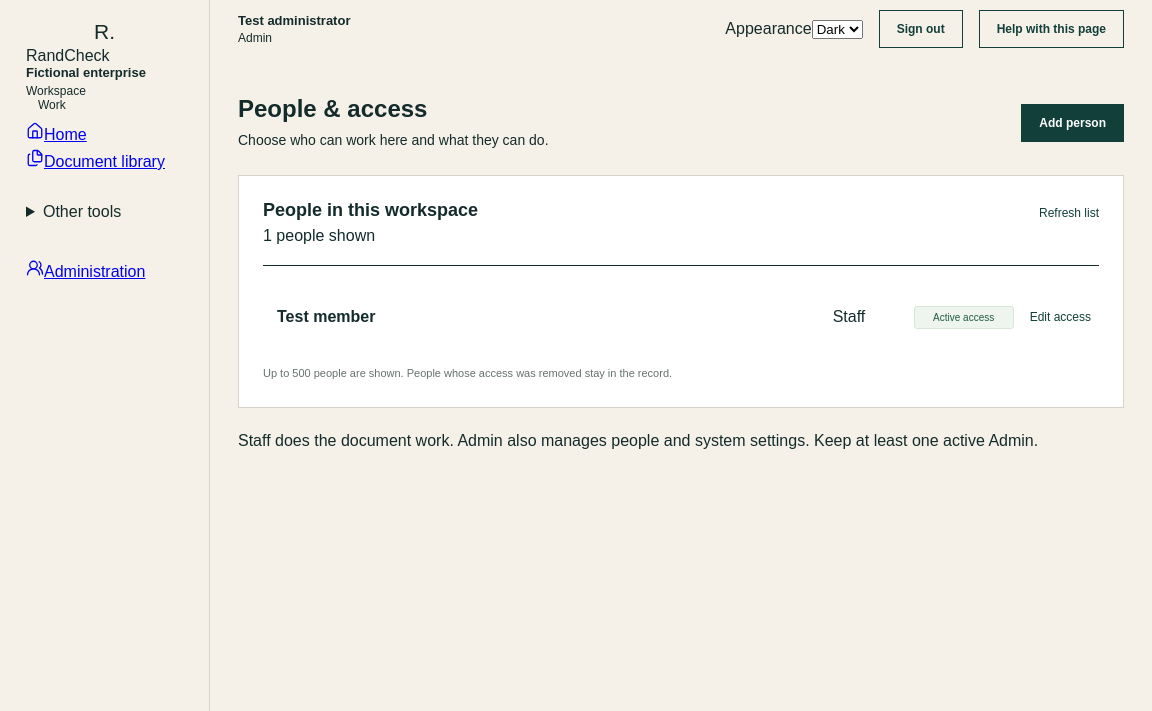
organization access screens › sends the selected version and requires reloading after a stale membership conflict
Click the button with aria-label "Edit Test member" at [1060, 317], box [1030,304,1091,330]
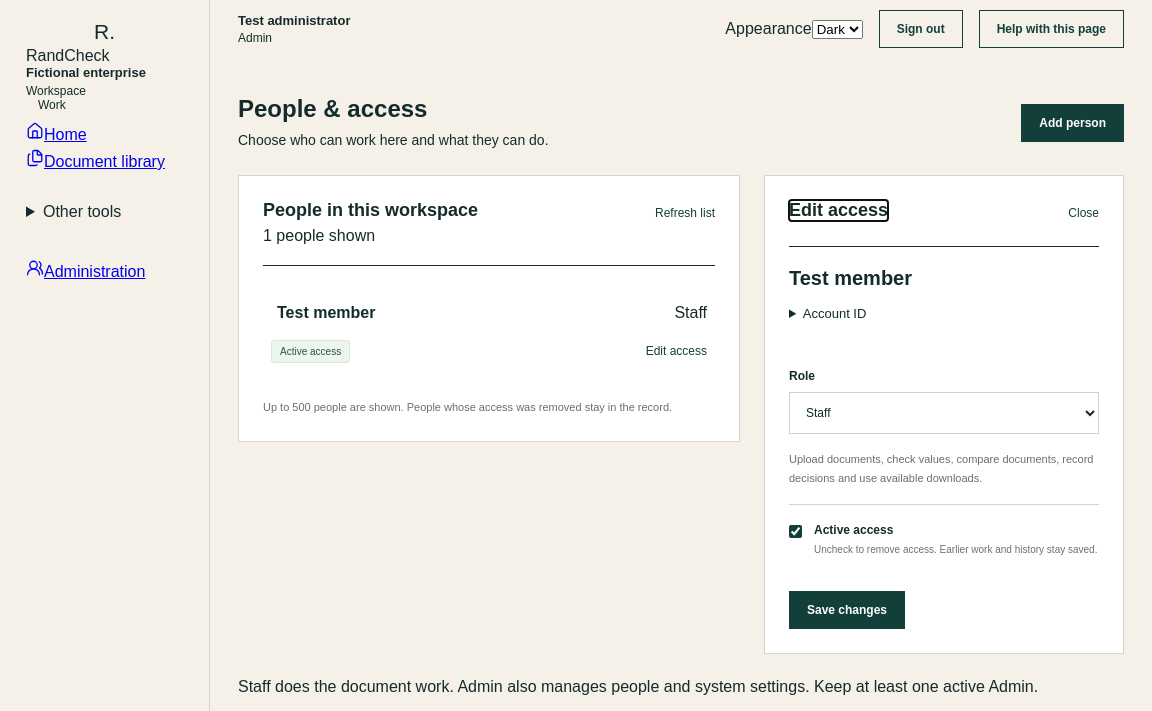
Select "Admin" in the dropdown labelled "Role" at [944, 413], box [789,392,1099,434]
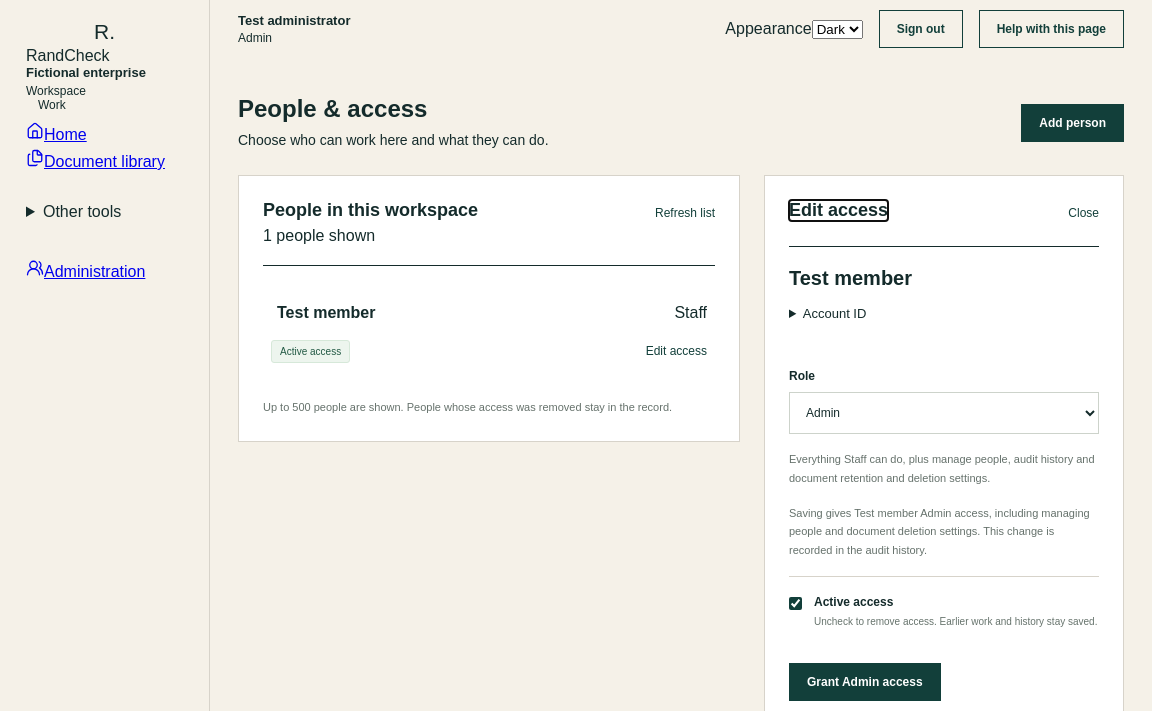
Click the button "Grant Admin access" at [865, 682], box [789,663,941,701]
(page scrolled)
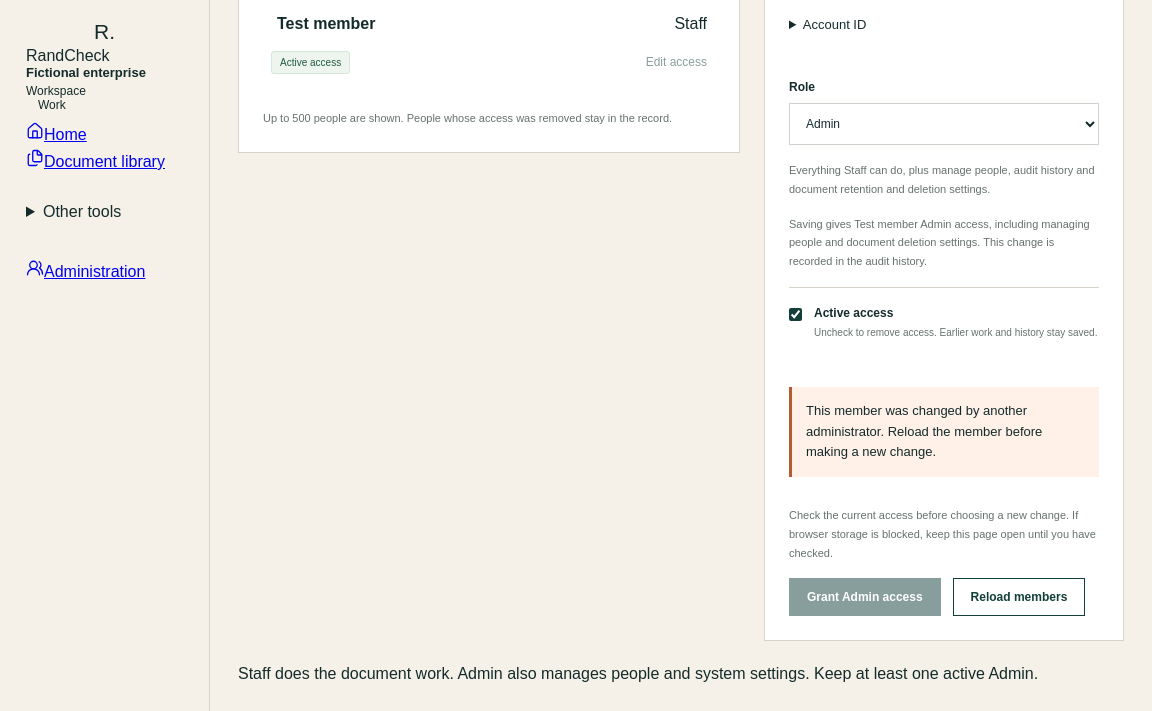
Expected: the message is shown, [789,387,1099,477]
Expected: the button "Grant Admin access" is disabled, [789,578,941,616]
Expected: the button "Reload members" is shown, [953,578,1085,616]
